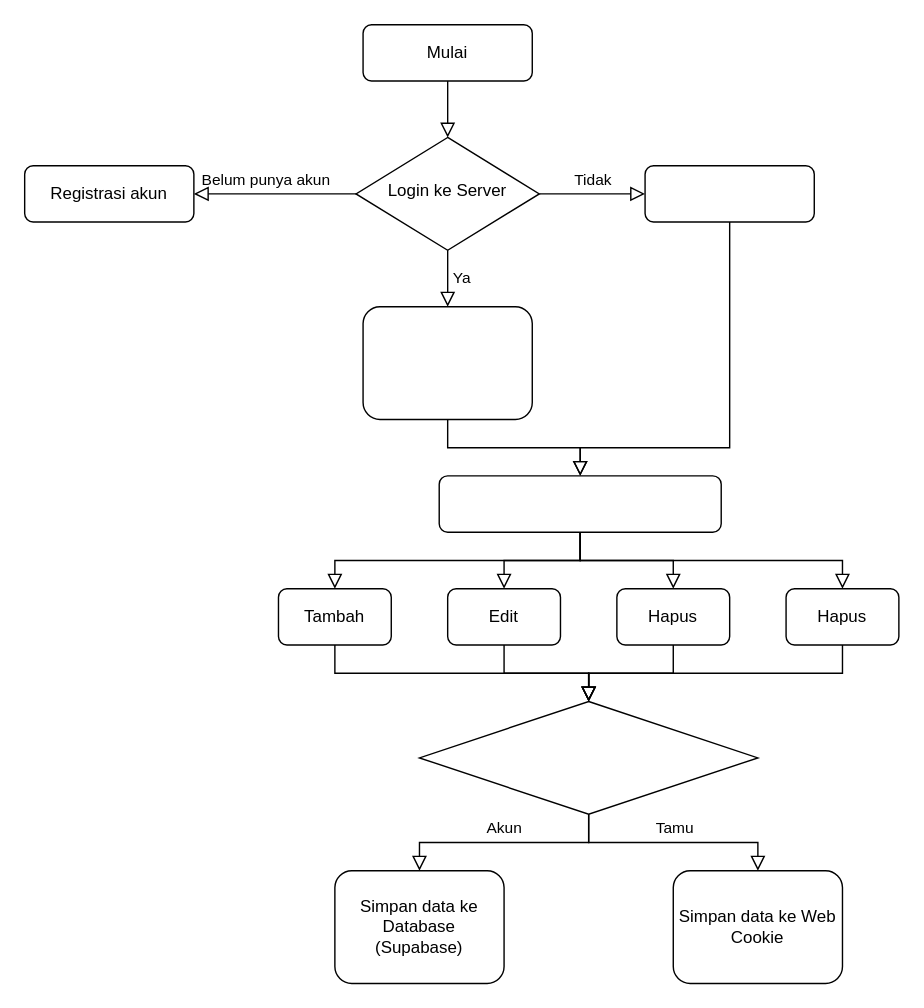
The diagram is 924 pixels wide and 1008 high, and some of its shapes have lost their labels. Here are the shapes that lost their labels. From the top down, the centre of each, then its label:
At (x=729, y=193): "Masuk sebagai Tamu".
At (x=447, y=362): "Masuk sesi sesuai akun login".
At (x=579, y=503): "Fungsi CRUD Dasar".
At (x=588, y=757): "Simpan data sesuai user login".
